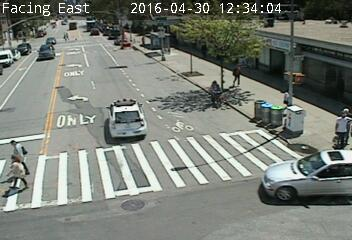neg: (110, 98, 135, 132), (288, 160, 313, 194), (258, 94, 283, 127), (48, 161, 72, 194), (326, 190, 350, 223), (202, 78, 225, 109), (46, 39, 69, 69), (108, 186, 131, 215), (171, 90, 192, 118), (180, 149, 201, 176), (44, 82, 63, 108), (72, 105, 91, 131), (225, 188, 243, 212), (144, 34, 160, 56), (220, 24, 236, 45), (276, 45, 292, 66), (291, 72, 307, 93), (85, 22, 99, 41), (65, 14, 76, 28), (108, 58, 118, 71)
pos: (324, 111, 348, 144), (3, 155, 25, 185), (231, 63, 253, 93), (5, 132, 20, 152)
